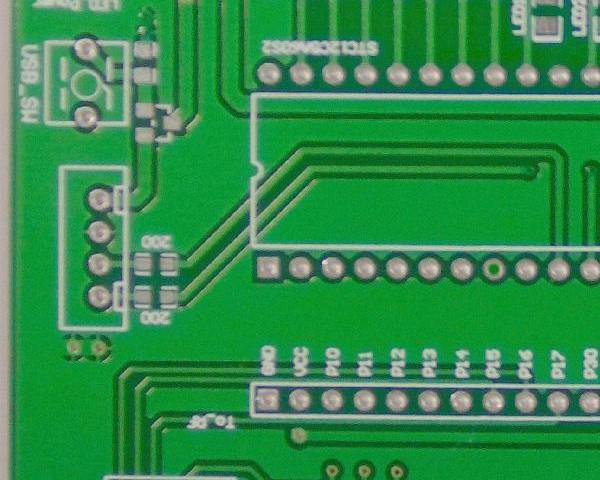missing hole: (479, 251, 508, 285)
